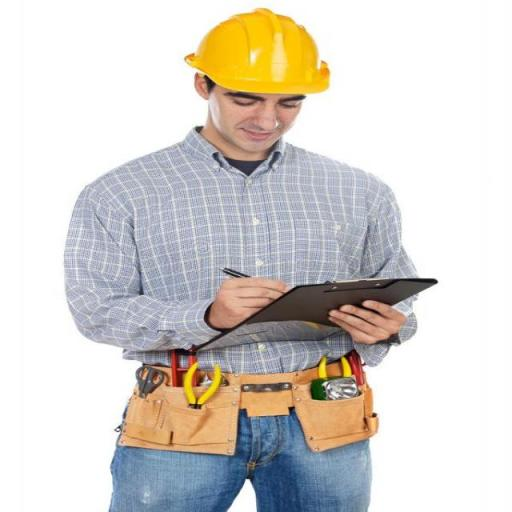helmet: (184, 7, 332, 94)
